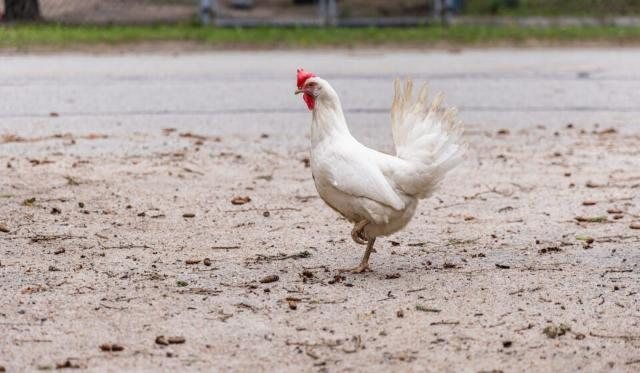Chicken: (293, 68, 471, 273)
